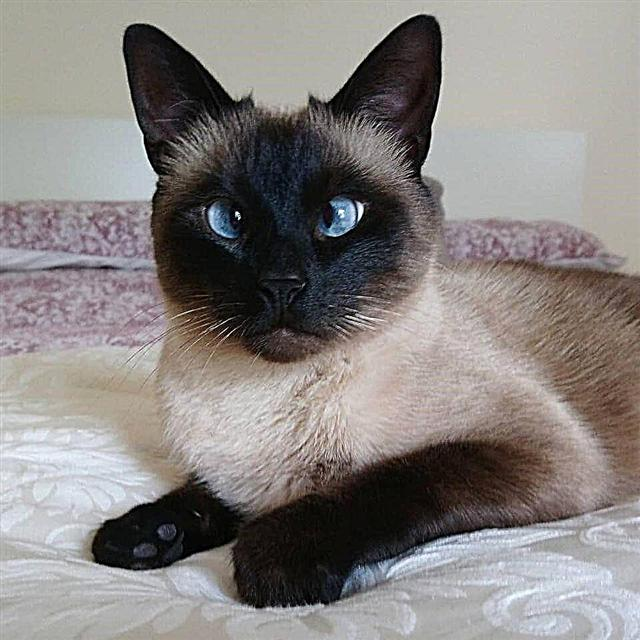siamese: (111, 13, 467, 382)
